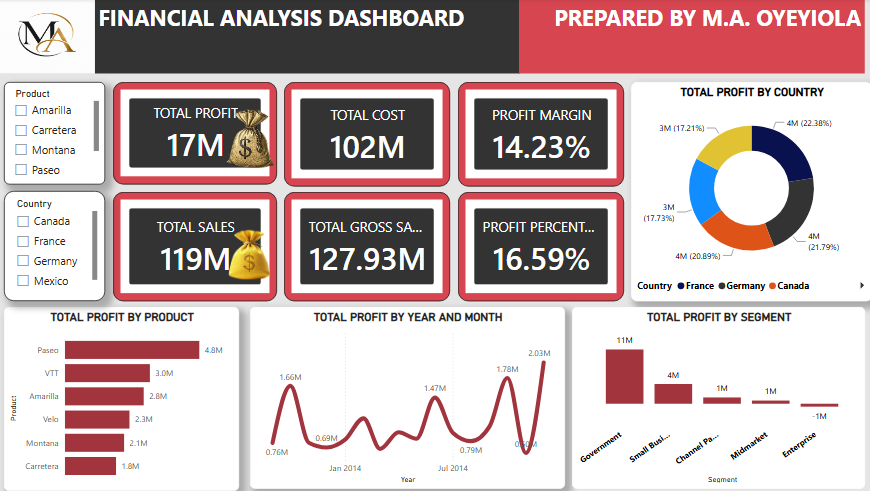

Layout of this report page (visuals, bound fields, positions):
{"tool":"powerbi","page":{"name":"Page 1","canvas":[1280,720],"ordinal":0},"visuals":[{"type":"textbox","box":[142.8,0,621.5,109.2],"z":0},{"type":"textbox","box":[764.3,0,505.6,109.2],"z":1000},{"type":"cardVisual","fields":{"Data":["financials.TOTAL PROFIT"]},"box":[169.9,121,240.5,149.8],"z":2000},{"type":"cardVisual","fields":{"Data":["financials.TOTAL COST"]},"box":[420.5,121,243.4,152.6],"z":3000},{"type":"cardVisual","fields":{"Data":["financials.TOTAL SALES"]},"box":[169.9,282.2,240.5,159.8],"z":4000},{"type":"cardVisual","fields":{"Data":["financials.TOTAL GROSS SALES"]},"box":[420.5,282.2,243.4,159.8],"z":5000},{"type":"cardVisual","fields":{"Data":["financials.PROFIT MARGIN"]},"box":[673.9,121,243.4,152.6],"z":6000},{"type":"cardVisual","fields":{"Data":["financials.PROFIT PERCENTAGE"]},"box":[673.9,282.2,243.4,159.8],"z":7000},{"type":"lineChart","title":"TOTAL PROFIT BY YEAR AND MONTH","fields":{"Category":["financials.Date.Variation.Date Hierarchy.Year","financials.Date.Variation.Date Hierarchy.Month"],"Y":["financials.TOTAL PROFIT"]},"box":[370.1,450.7,460.8,266.4],"z":8000},{"type":"donutChart","title":"TOTAL PROFIT BY COUNTRY","fields":{"Category":["financials.Country"],"Y":["financials.TOTAL PROFIT"]},"box":[927.4,121,352.8,321.1],"z":9000},{"type":"columnChart","title":"TOTAL PROFIT BY SEGMENT","fields":{"Category":["financials.Segment"],"Y":["financials.TOTAL PROFIT"]},"box":[841,450.7,429.1,266.4],"z":10000},{"type":"barChart","title":"TOTAL PROFIT BY PRODUCT","fields":{"Category":["financials.Product"],"Y":["financials.TOTAL PROFIT"]},"box":[10.1,450.7,344.2,269.3],"z":11000},{"type":"slicer","fields":{"Values":["financials.Product"]},"box":[10.1,121,148.3,149.8],"z":12000},{"type":"slicer","fields":{"Values":["financials.Country"]},"box":[10.1,280.8,148.3,161.3],"z":13000},{"type":"image","box":[0,0,142.8,109.2],"z":14000},{"type":"image","box":[323.4,137.6,93.7,133.2],"z":15000},{"type":"image","box":[327.8,251.7,83.4,247.3],"z":16000}]}

Visuals, with their boxes in screenshot pixels (x1, y1, x2, y2), scaled from the page's 1280x720 canvas onto the 870x491 screenshot:
textbox: [97, 0, 519, 74]
textbox: [519, 0, 863, 74]
cardVisual - financials.TOTAL PROFIT: [115, 83, 279, 185]
cardVisual - financials.TOTAL COST: [286, 83, 451, 187]
cardVisual - financials.TOTAL SALES: [115, 192, 279, 301]
cardVisual - financials.TOTAL GROSS SALES: [286, 192, 451, 301]
cardVisual - financials.PROFIT MARGIN: [458, 83, 623, 187]
cardVisual - financials.PROFIT PERCENTAGE: [458, 192, 623, 301]
"TOTAL PROFIT BY YEAR AND MONTH" lineChart: [252, 307, 565, 489]
"TOTAL PROFIT BY COUNTRY" donutChart: [630, 83, 869, 301]
"TOTAL PROFIT BY SEGMENT" columnChart: [572, 307, 863, 489]
"TOTAL PROFIT BY PRODUCT" barChart: [7, 307, 241, 490]
slicer - financials.Product: [7, 83, 108, 185]
slicer - financials.Country: [7, 191, 108, 301]
image: [0, 0, 97, 74]
image: [220, 94, 283, 185]
image: [223, 172, 279, 340]
